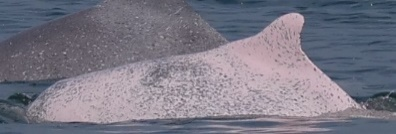fin: (28, 11, 372, 124)
